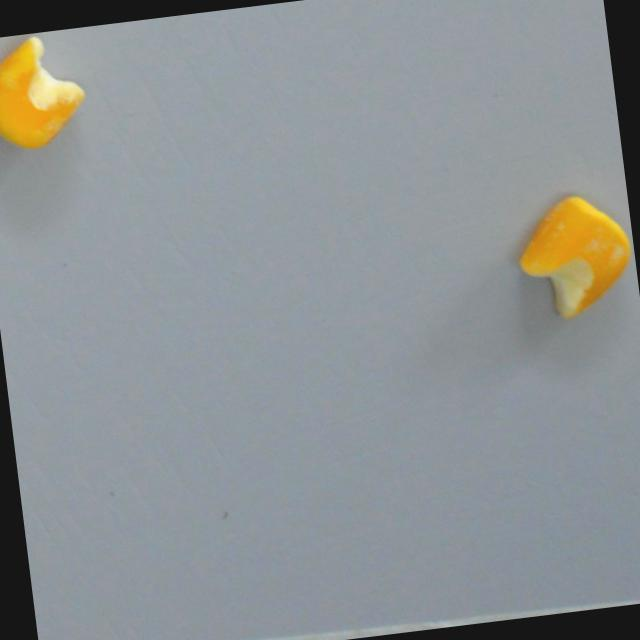pelicula: (507, 186, 639, 327), (0, 27, 96, 158)
